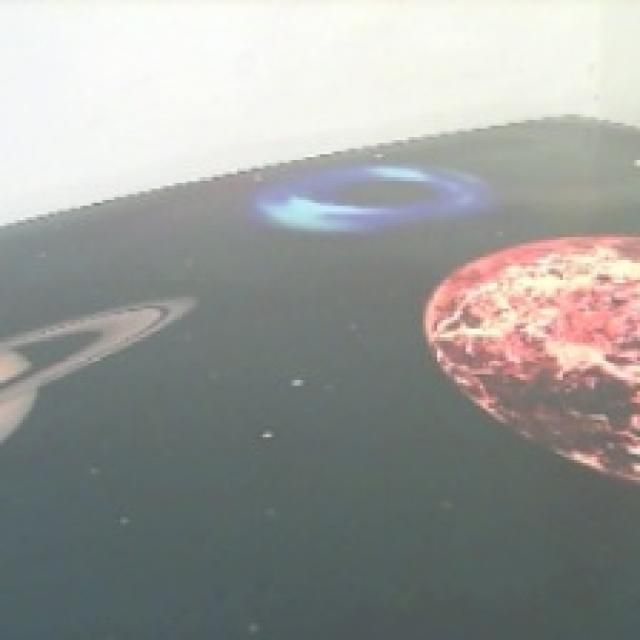Black Hole: (257, 163, 485, 236)
Saturn: (0, 295, 196, 451)
Sun: (424, 230, 640, 490)
